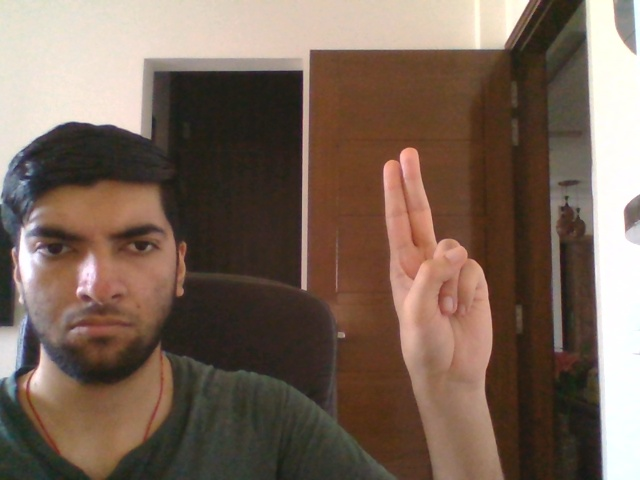LetterU: (380, 144, 496, 386)
